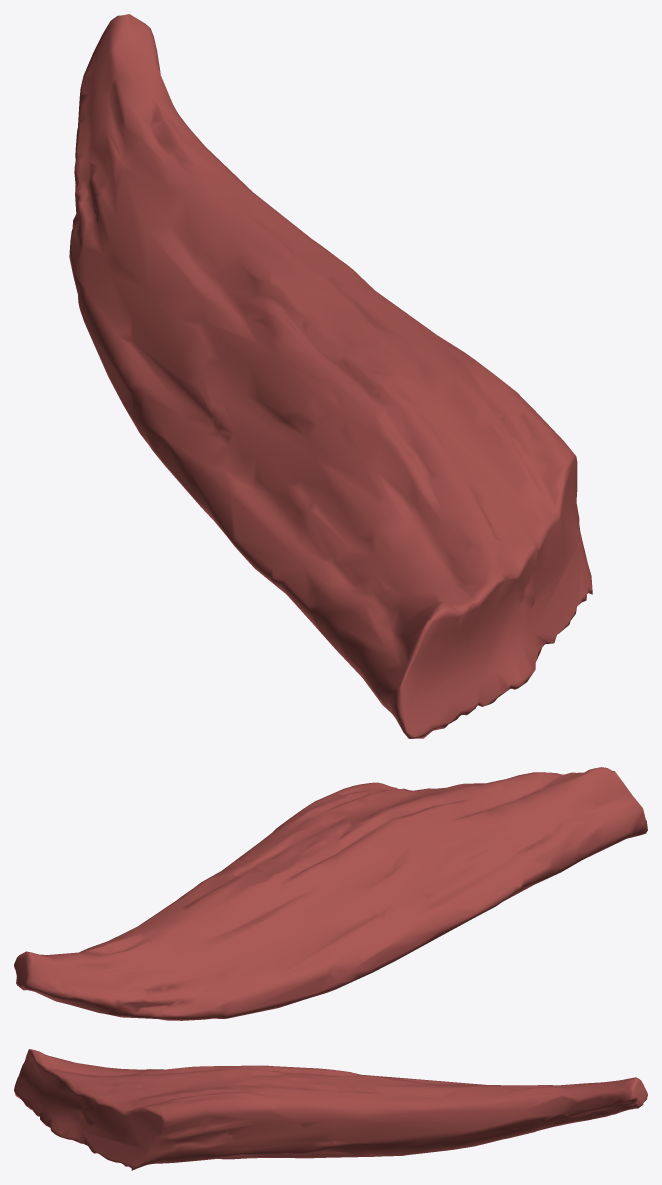
The model's file is FMA46305.glb.
3 renders of one model, top to bottom at view 1: azimuth 30°, elevation 25°; view 2: azimuth 150°, elevation 25°; view 3: azimuth 270°, elevation 25°, orthographic. The views are drawn at different scales.
Visible parts, largest first — view 1: FMA46305; view 2: FMA46305; view 3: FMA46305.
Part boxes in pixels (left/top/right/bottom): FMA46305: left=69, top=14, right=592, bottom=738; FMA46305: left=14, top=767, right=647, bottom=1020; FMA46305: left=14, top=1049, right=647, bottom=1170.
Bounding box in the file's own units: 0.0116 × 0.00622 × 0.0345.
